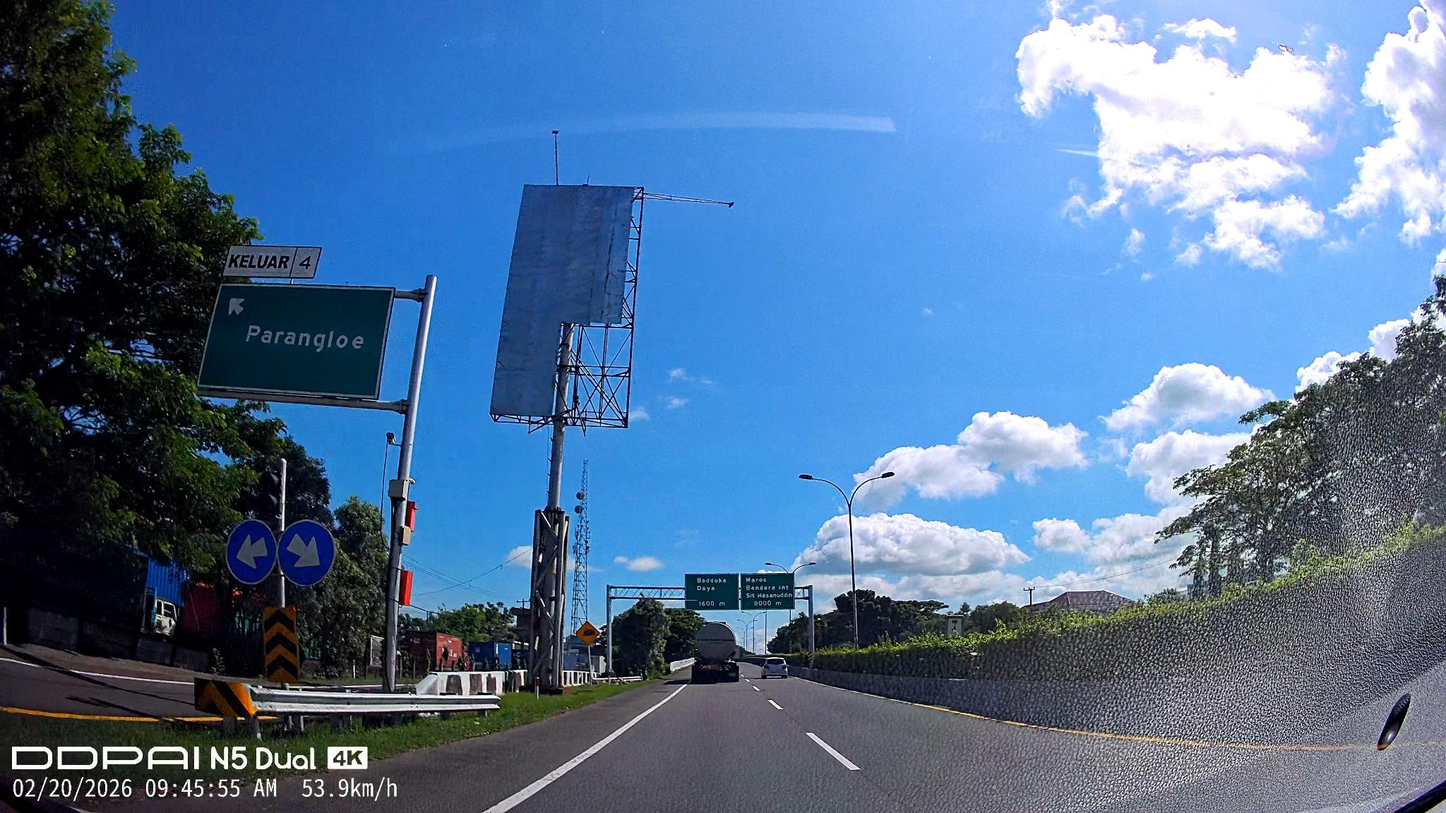rambu_teks: (194, 280, 398, 402)
